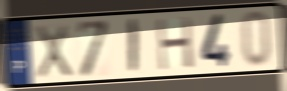0: (239, 8, 275, 70)
4: (199, 11, 235, 72)
7: (76, 17, 110, 79)
H: (154, 15, 197, 73)
I: (128, 17, 140, 76)
X: (33, 22, 74, 81)
